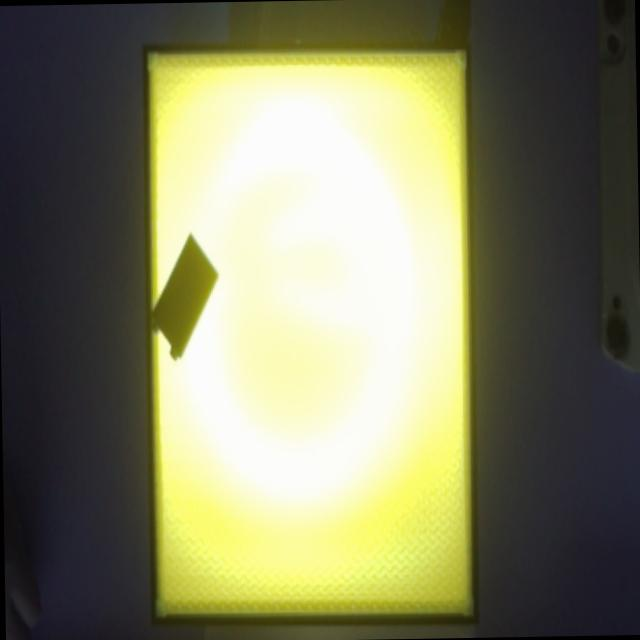bateria: (150, 233, 218, 359)
mesa: (143, 40, 479, 625)
